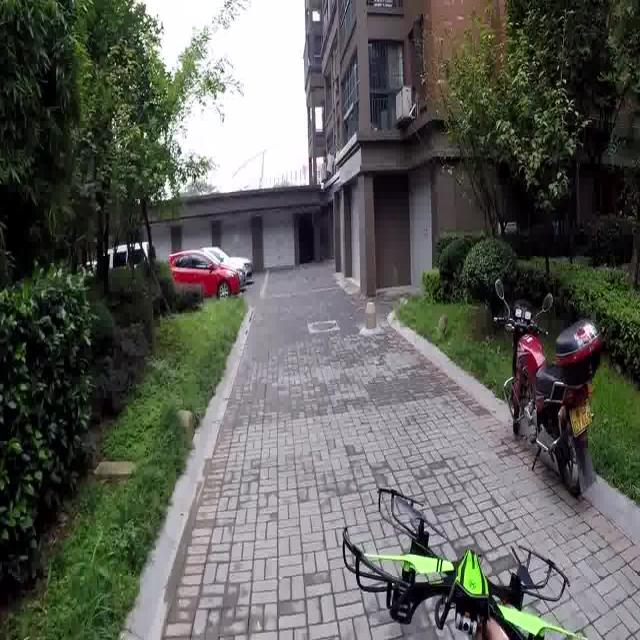drones: (339, 480, 575, 640)
